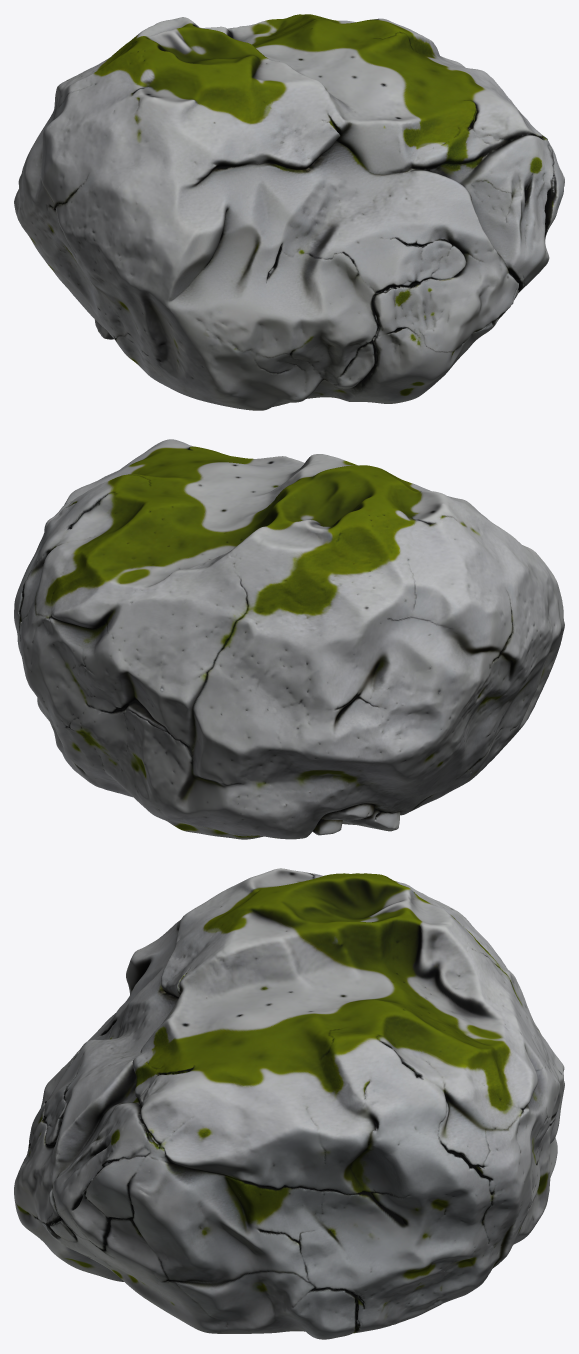
File: big_rock.glb
3 views of the same model, one above another, from view 1: azimuth 30°, elevation 25°; view 2: azimuth 150°, elevation 25°; view 3: azimuth 270°, elevation 25° (orthographic). The views are drawn at different scales.
Bounding box in the file's own units: 2 × 1.29 × 1.98.
Materials: 1 (1 with a texture image).
